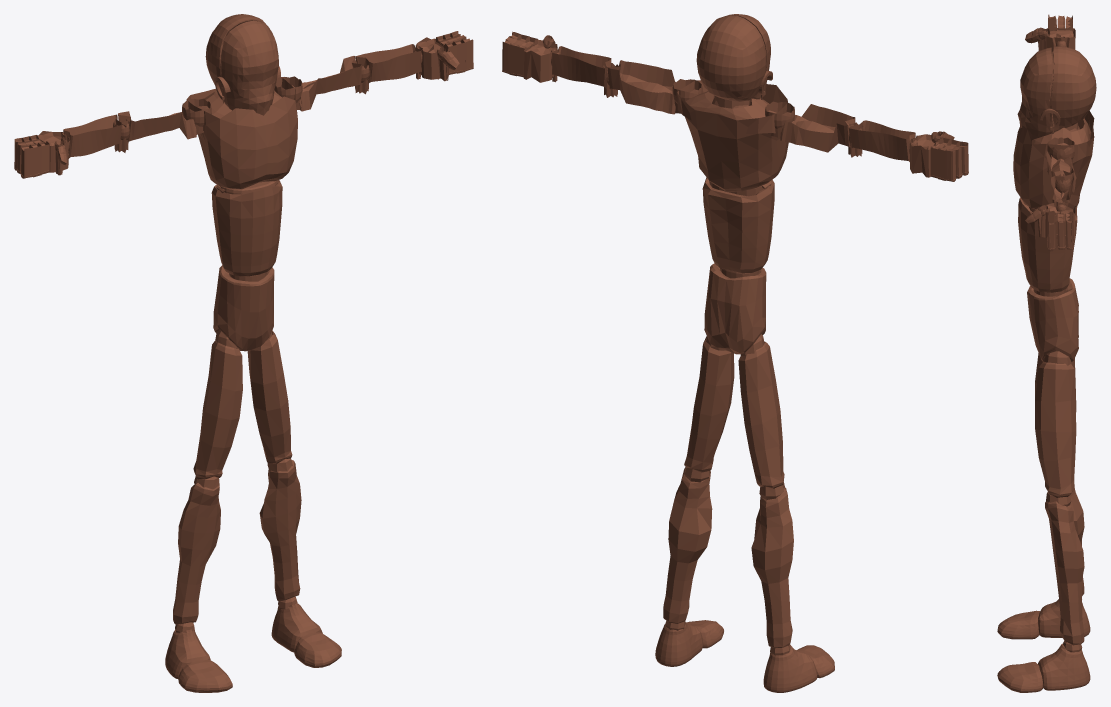
The picture shows the model from 3 angles, left to right: view 1: azimuth 30°, elevation 25°; view 2: azimuth 150°, elevation 25°; view 3: azimuth 270°, elevation 25°; orthographic projection. The views are drawn at different scales.
Parts seen in each view (by area): view 1: base_mannequin.glb, base_mannequin.glb_2; view 2: base_mannequin.glb, base_mannequin.glb_2; view 3: base_mannequin.glb, base_mannequin.glb_2.
Boxes of the visible parts, left/top/right/bottom form: base_mannequin.glb: left=14, top=14, right=473, bottom=692; base_mannequin.glb_2: left=61, top=50, right=422, bottom=632; base_mannequin.glb: left=502, top=14, right=968, bottom=692; base_mannequin.glb_2: left=551, top=52, right=917, bottom=655; base_mannequin.glb: left=997, top=14, right=1096, bottom=692; base_mannequin.glb_2: left=1029, top=41, right=1082, bottom=652.
Size of the model in its own units: 1.58 by 2.15 by 0.3162.
3 materials, 3 textured.
